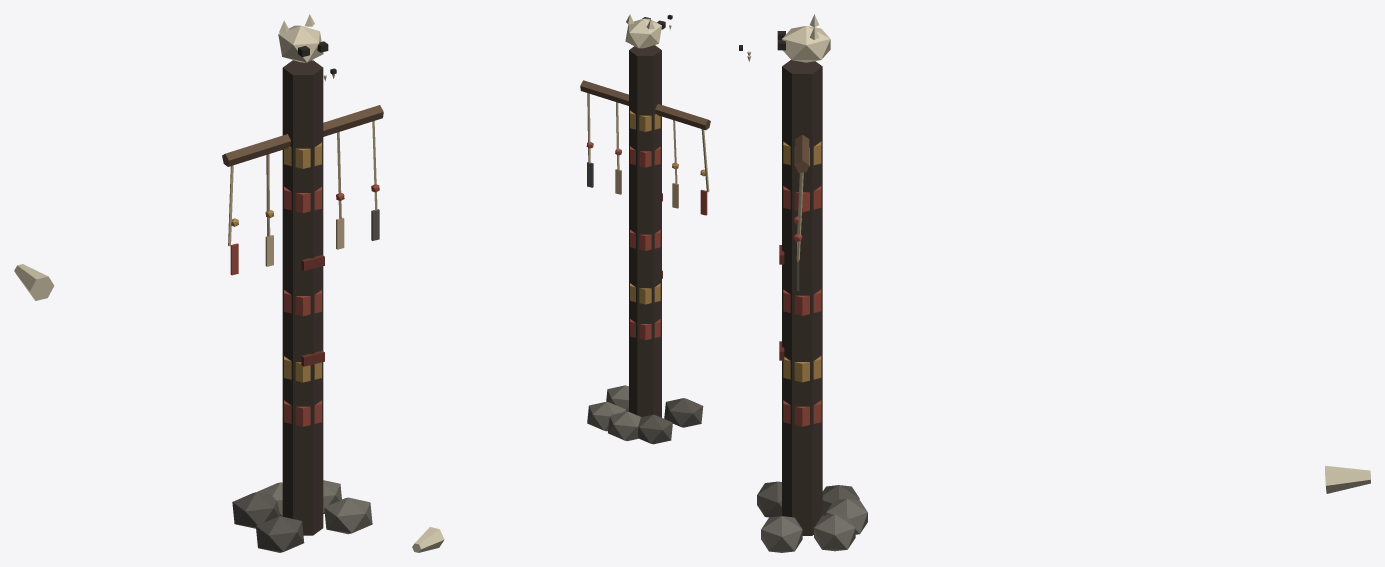
Rendered from fox_totem.glb.
3 renders of one model, left to right at view 1: azimuth 30°, elevation 25°; view 2: azimuth 150°, elevation 25°; view 3: azimuth 270°, elevation 25°, orthographic. The views are drawn at different scales.
Parts seen in each view (by area): view 1: totem pole, crossbar, base stone, base stone.001, base stone.003, fox cranium, fox muzzle, painted ring, painted ring.002, painted ring.003, painted ring.004, painted ring.001; view 2: totem pole, crossbar, base stone, base stone.003, fox cranium, base stone.002, base stone.004, fox muzzle, base stone.001, painted ring.002, painted ring.003, painted ring.001 (+2 smaller); view 3: totem pole, fox cranium, base stone.001, base stone.004, fox muzzle, base stone.002, base stone.
Boxes of the visible parts, <box> form: totem pole: <box>282,60,323,535</box>; crossbar: <box>222,105,383,166</box>; base stone: <box>256,516,304,552</box>; base stone.001: <box>324,497,372,534</box>; base stone.003: <box>232,492,280,528</box>; fox cranium: <box>278,25,323,62</box>; fox muzzle: <box>14,264,54,300</box>; painted ring: <box>284,400,321,426</box>; painted ring.002: <box>284,290,321,316</box>; painted ring.003: <box>284,186,321,212</box>; painted ring.004: <box>284,142,321,168</box>; painted ring.001: <box>284,356,321,382</box>; totem pole: <box>629,45,661,417</box>; crossbar: <box>580,80,710,130</box>; base stone: <box>664,398,703,427</box>; base stone.003: <box>638,414,672,444</box>; fox cranium: <box>625,18,661,48</box>; base stone.002: <box>608,411,641,441</box>; base stone.004: <box>587,401,626,431</box>; fox muzzle: <box>412,527,444,552</box>; base stone.001: <box>606,385,628,411</box>; painted ring.002: <box>630,229,660,250</box>; painted ring.003: <box>630,146,660,167</box>; painted ring.001: <box>630,283,660,304</box>; totem pole: <box>782,60,822,535</box>; fox cranium: <box>782,26,830,62</box>; base stone.001: <box>761,516,802,552</box>; base stone.004: <box>814,514,855,551</box>; fox muzzle: <box>1325,465,1370,493</box>; base stone.002: <box>826,499,867,534</box>; base stone: <box>757,481,781,517</box>.
Bounding box in the file's own units: 0.4422 × 1.4 × 1.55.
